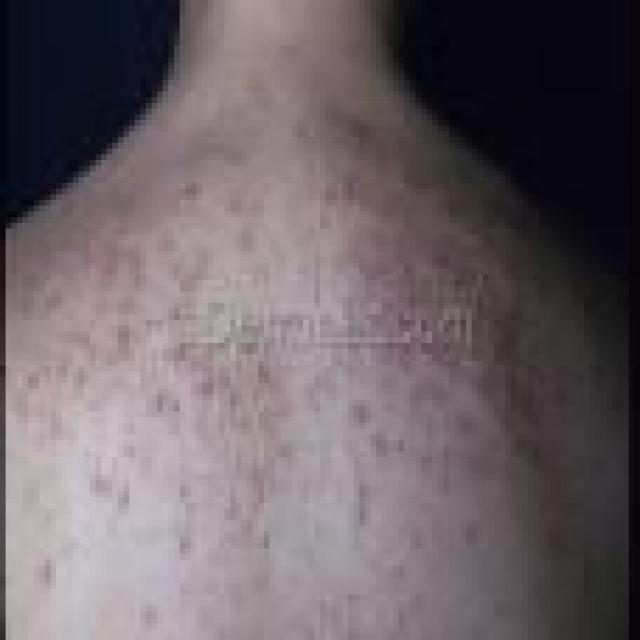Melasma: (0, 120, 601, 600)
